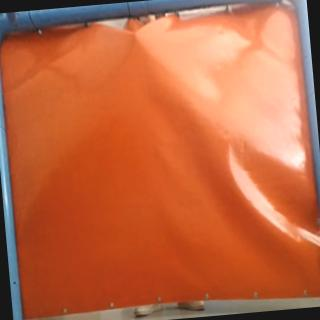Hit-hRxx: (128, 26, 144, 44)
